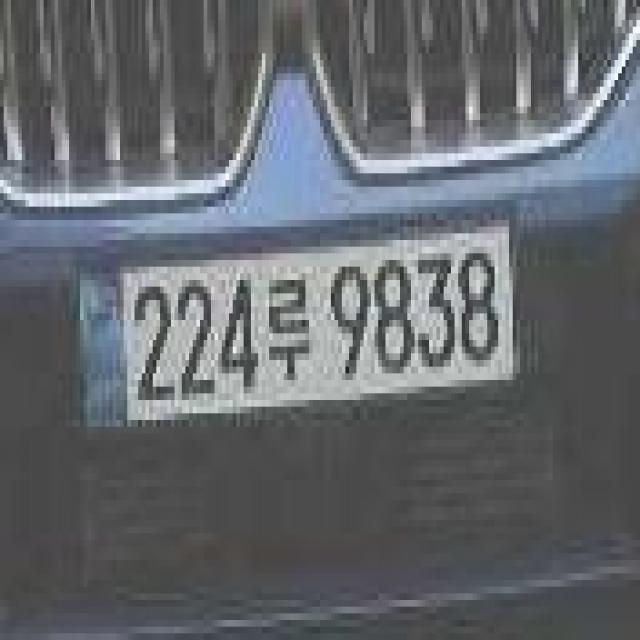illegal_plate: (68, 211, 524, 445)
